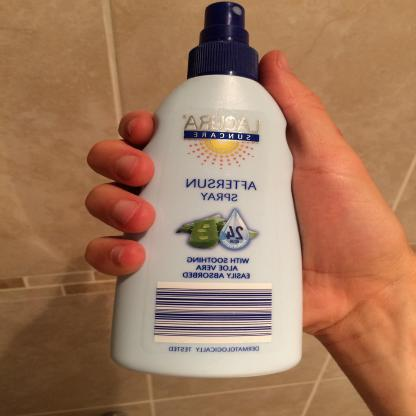plastik: (110, 3, 306, 380)
